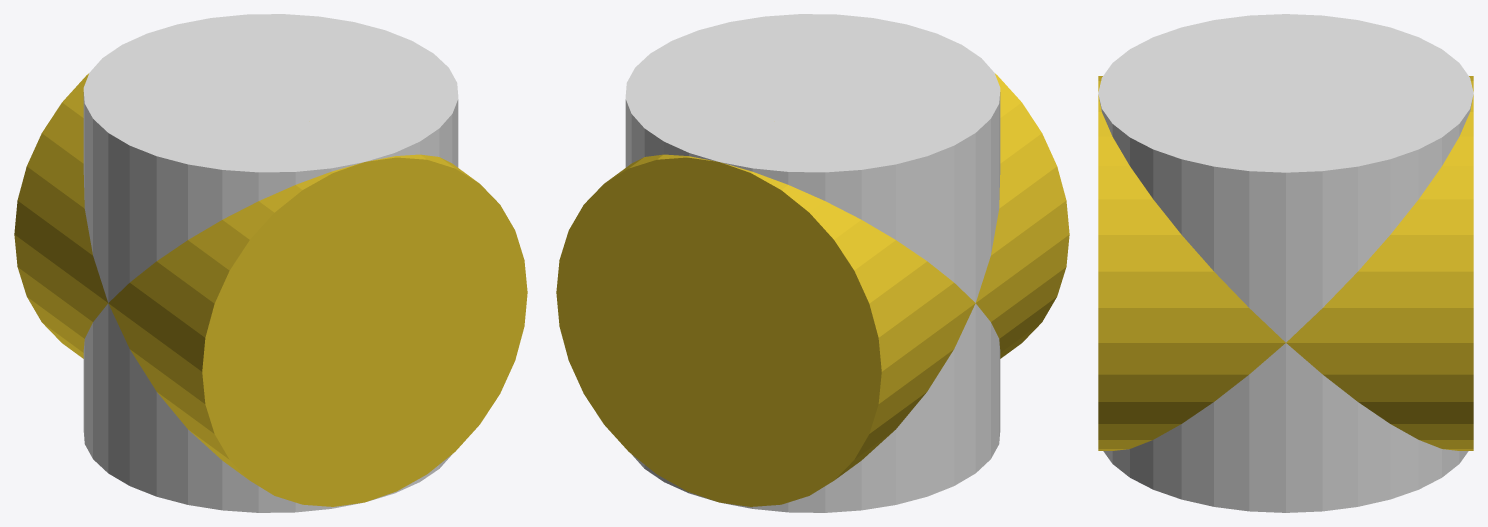
3 renders of one model, left to right at view 1: azimuth 30°, elevation 25°; view 2: azimuth 150°, elevation 25°; view 3: azimuth 270°, elevation 25°, orthographic.
Parts seen in each view (by area): view 1: Cylinder, Cylinder.001; view 2: Cylinder, Cylinder.001; view 3: Cylinder.001, Cylinder.
Part boxes in pixels (bbox=[...]): Cylinder: bbox=[14, 73, 527, 506]; Cylinder.001: bbox=[83, 14, 458, 512]; Cylinder: bbox=[556, 73, 1069, 506]; Cylinder.001: bbox=[625, 14, 1000, 512]; Cylinder.001: bbox=[1098, 14, 1473, 512]; Cylinder: bbox=[1098, 76, 1473, 450].
Bounding box in the file's own units: 2 × 2 × 2.
